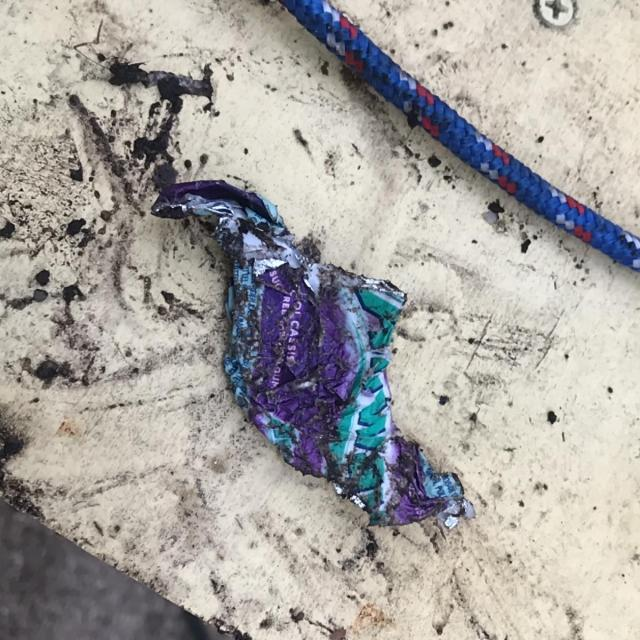Plastic: (148, 178, 478, 532)
